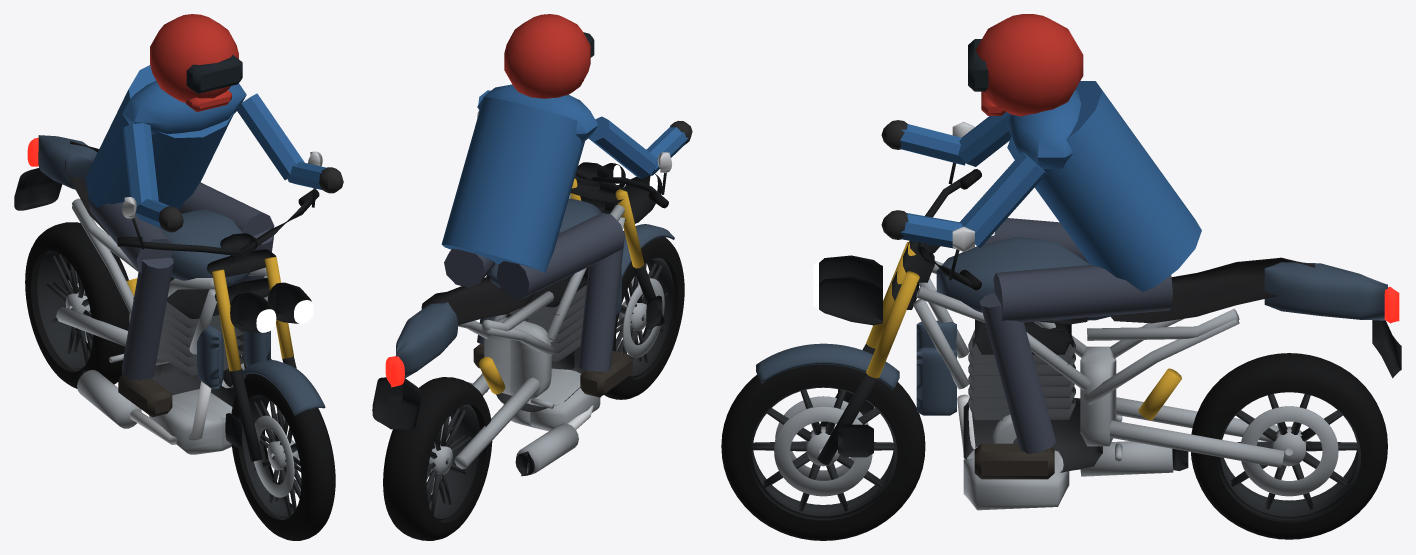
File: street_triple.glb
3 views of the same model, side by side, from view 1: azimuth 30°, elevation 25°; view 2: azimuth 150°, elevation 25°; view 3: azimuth 270°, elevation 25° (orthographic). The views are drawn at different scales.
Parts seen in each view (by area): view 1: body, rider_torso, fork, wheel_front, wheel_rear, rider_legs, rider_head; view 2: body, rider_torso, wheel_rear, rider_legs, wheel_front, fork, rider_head; view 3: body, rider_torso, wheel_rear, wheel_front, rider_legs, fork, rider_head.
Part boxes in pixels (x1,y1,x2,y2): body: [14, 135, 270, 454]; rider_torso: [85, 65, 343, 232]; fork: [117, 151, 325, 461]; wheel_front: [231, 373, 335, 540]; wheel_rear: [25, 222, 129, 388]; rider_legs: [88, 182, 274, 417]; rider_head: [150, 14, 242, 111]; body: [372, 194, 625, 476]; rider_torso: [441, 84, 692, 272]; wheel_rear: [383, 377, 492, 540]; rider_legs: [444, 213, 632, 397]; wheel_front: [604, 237, 684, 399]; fork: [477, 111, 674, 329]; rider_head: [504, 14, 594, 98]; body: [913, 237, 1401, 510]; rider_torso: [881, 81, 1201, 292]; wheel_rear: [1191, 353, 1387, 539]; wheel_front: [721, 364, 925, 540]; rider_legs: [974, 218, 1172, 479]; fork: [756, 122, 981, 464]; rider_head: [968, 14, 1083, 116].
Bounding box in the file's own units: 0.8067 × 1.72 × 2.04.
